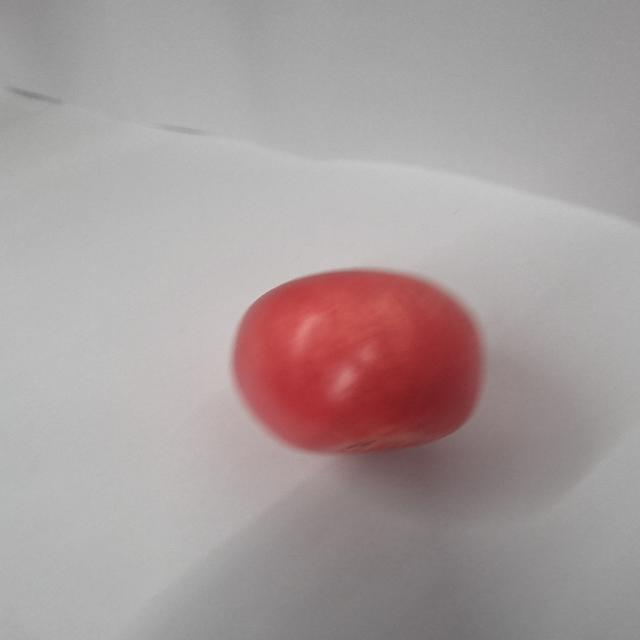apple: (232, 268, 482, 452)
